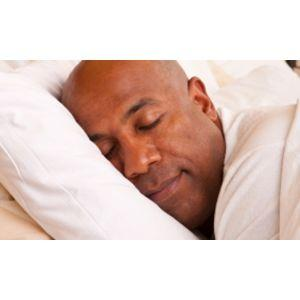sleep: (52, 58, 300, 239), (84, 94, 203, 214)
